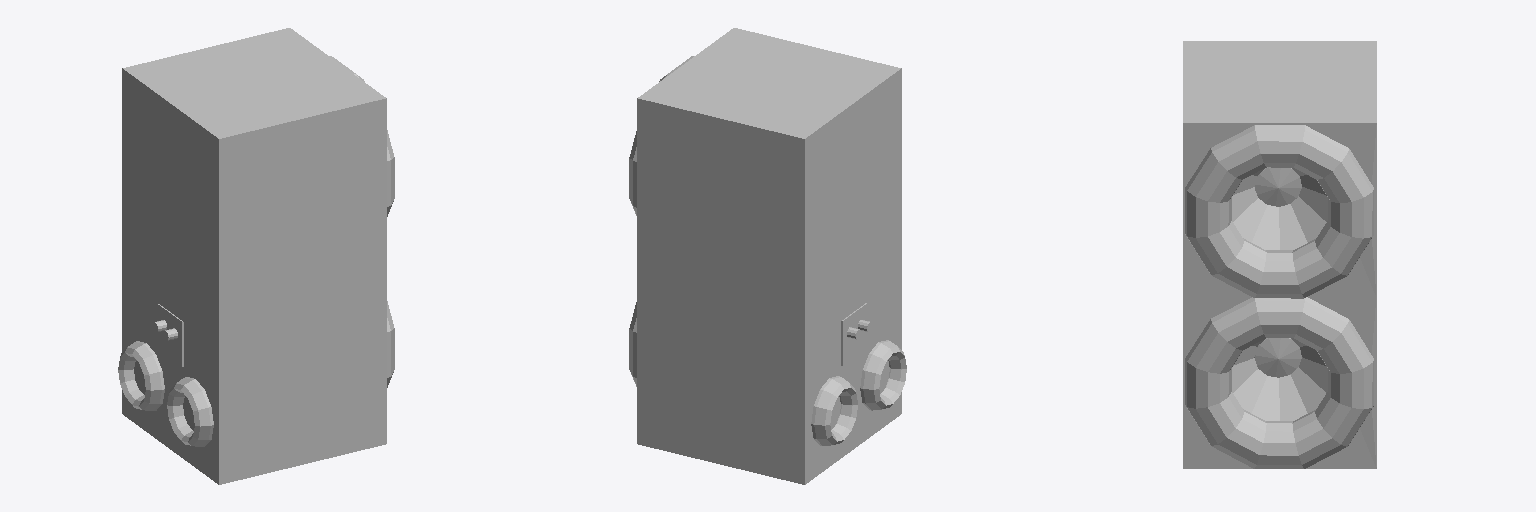
File: speaker.obj
The picture shows the model from 3 angles: view 1: azimuth 30°, elevation 25°; view 2: azimuth 150°, elevation 25°; view 3: azimuth 270°, elevation 25°; orthographic projection.
Visible parts, largest first — view 1: group[number redacted], group[number redacted], group[number redacted], group[number redacted], group[number redacted], group[number redacted]; view 2: group[number redacted], group[number redacted], group[number redacted], group[number redacted], group[number redacted], group[number redacted]; view 3: group[number redacted], group[number redacted], group[number redacted], group[number redacted], group[number redacted], group[number redacted], group[number redacted], group[number redacted].
Boxes of the visible parts, x1,y1,x2,y2 form: group[number redacted]: [122, 28, 386, 313]; group[number redacted]: [122, 244, 386, 484]; group[number redacted]: [167, 377, 213, 446]; group[number redacted]: [118, 341, 164, 410]; group[number redacted]: [158, 304, 183, 366]; group[number redacted]: [330, 56, 394, 216]; group[number redacted]: [637, 28, 901, 313]; group[number redacted]: [637, 244, 901, 484]; group[number redacted]: [860, 340, 906, 410]; group[number redacted]: [811, 376, 857, 445]; group[number redacted]: [841, 303, 866, 365]; group[number redacted]: [629, 56, 693, 215]; group[number redacted]: [1183, 41, 1376, 295]; group[number redacted]: [1185, 125, 1373, 298]; group[number redacted]: [1185, 297, 1373, 468]; group[number redacted]: [1183, 294, 1376, 468]; group[number redacted]: [1232, 338, 1327, 420]; group[number redacted]: [1232, 167, 1327, 249]; group[number redacted]: [1254, 338, 1301, 377]; group[number redacted]: [1255, 167, 1301, 206].
Size of the model in its own units: 0.6396 by 1.06 by 0.5348.